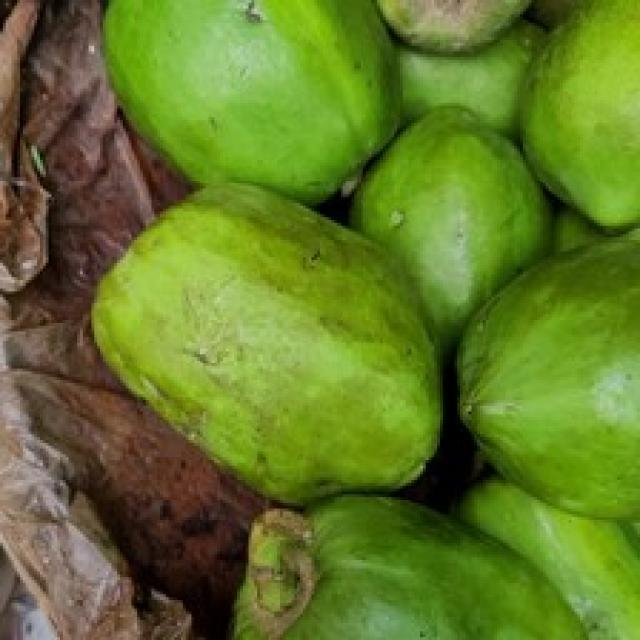Pepaya unrippen: (99, 184, 427, 498), (367, 116, 536, 305)
